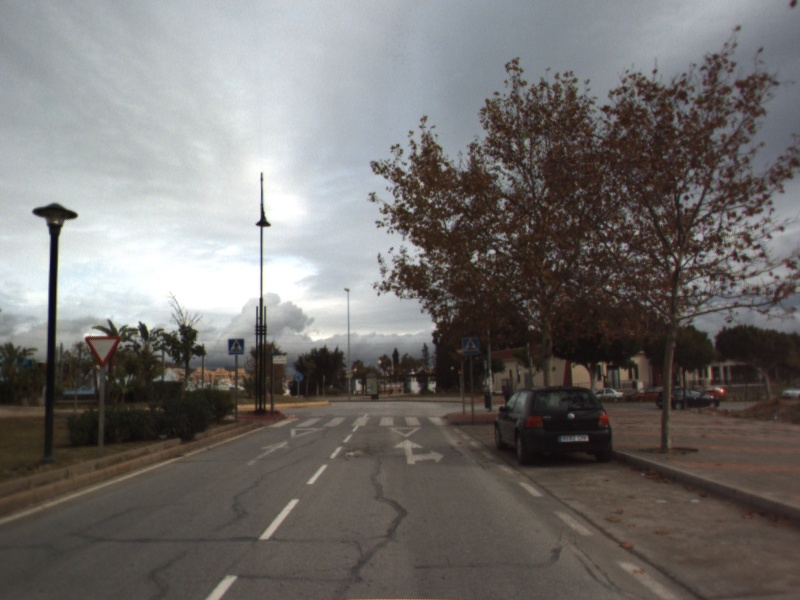STRAIGHT: (244, 437, 292, 467)
STRAIGHT_RIGHT: (390, 437, 447, 466)
